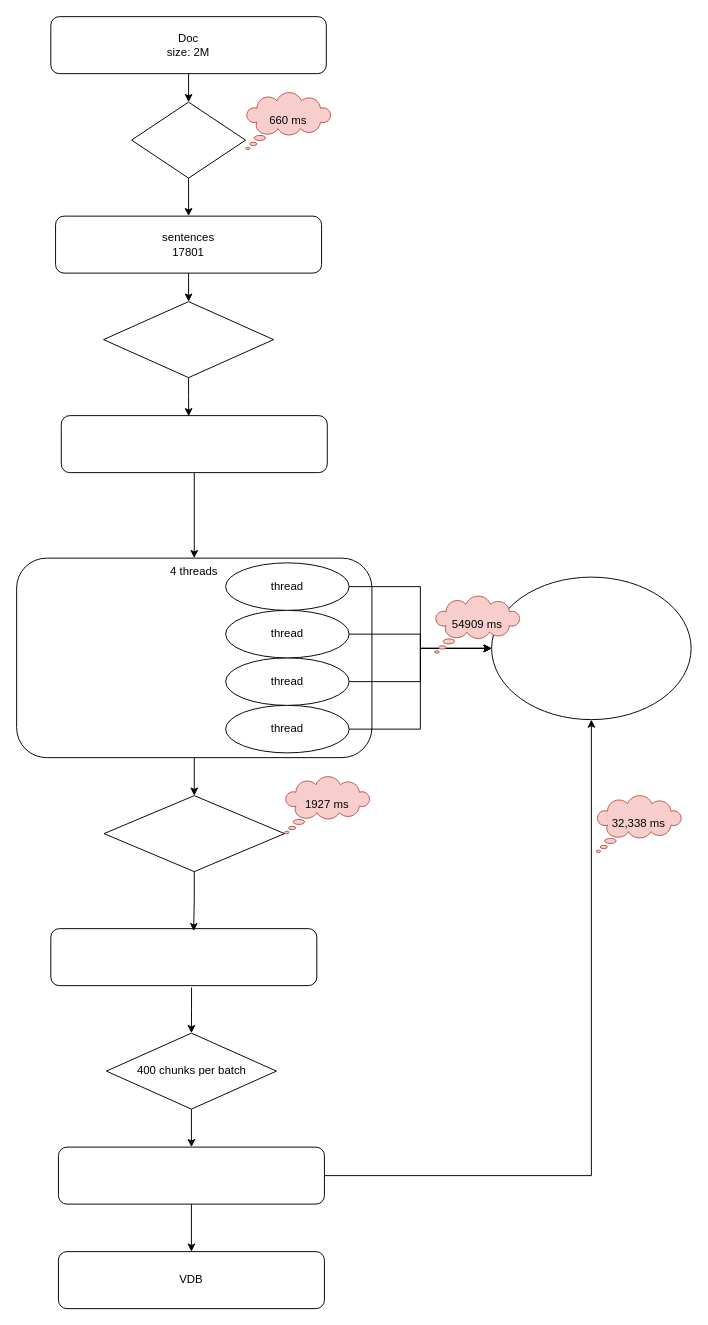
This 708x1325 diagram has some shape labels left out. Here are the shapes that lost their labels. From the top down, the centre of each, then its label:
point 188,139: NLTK sent_tokenizer
point 188,339: 400 sentences per batch
point 193,444: 45 batches
point 591,648: Embedding model
point 194,833: group sentences to chunks by vectors
point 183,957: 2492 chunks
point 190,1175: 7 batches
